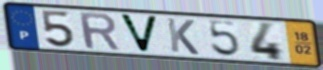4: (248, 22, 287, 62)
5: (206, 19, 243, 58), (39, 9, 76, 48)
K: (165, 17, 201, 57)
R: (76, 11, 123, 52)
V: (117, 12, 161, 55)
